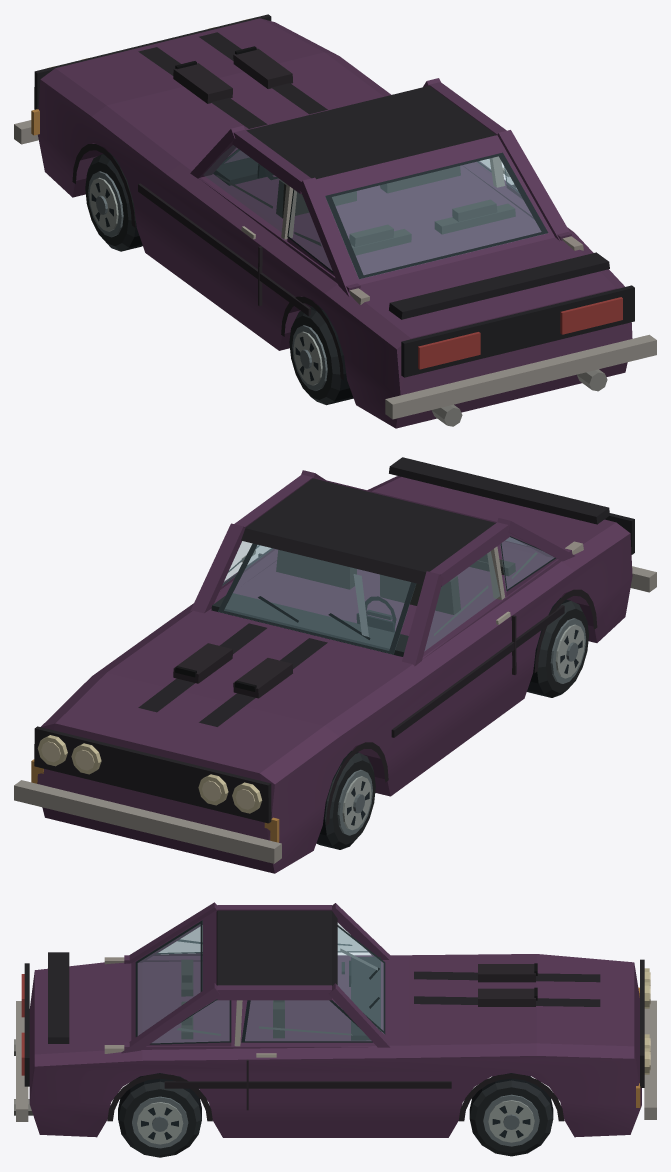
File: muscle.glb
The picture shows the model from 3 angles, top to bottom: view 1: azimuth 30°, elevation 25°; view 2: azimuth 150°, elevation 25°; view 3: azimuth 270°, elevation 25°; orthographic projection. The views are drawn at different scales.
Parts seen in each view (by area): view 1: proposition_muscle; view 2: proposition_muscle; view 3: proposition_muscle.
Boxes of the visible parts, x1,y1,x2,y2 form: proposition_muscle: (14, 14, 656, 428); proposition_muscle: (14, 457, 656, 873); proposition_muscle: (14, 902, 656, 1157).
Size of the model in its own units: 2.07 by 1.42 by 5.11.
